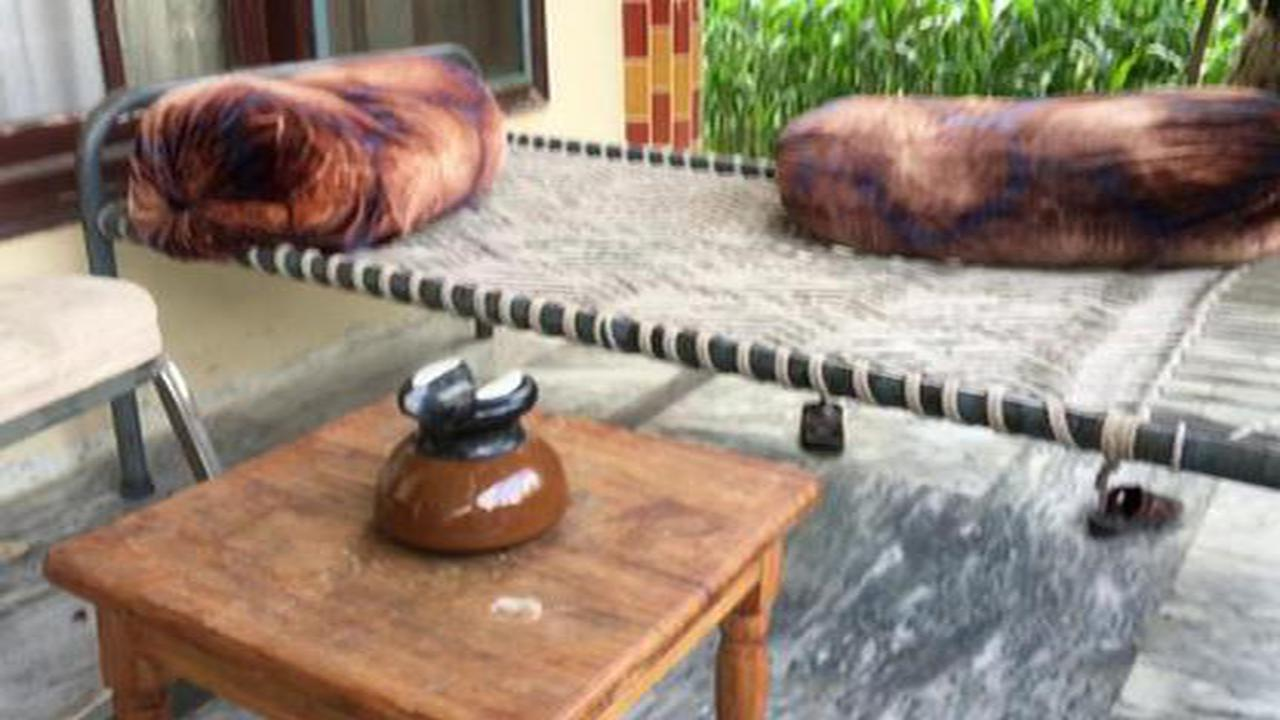insulator_pin: (351, 345, 585, 561)
